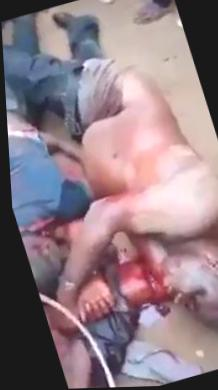Fire: (108, 233, 169, 318), (15, 215, 79, 256)
